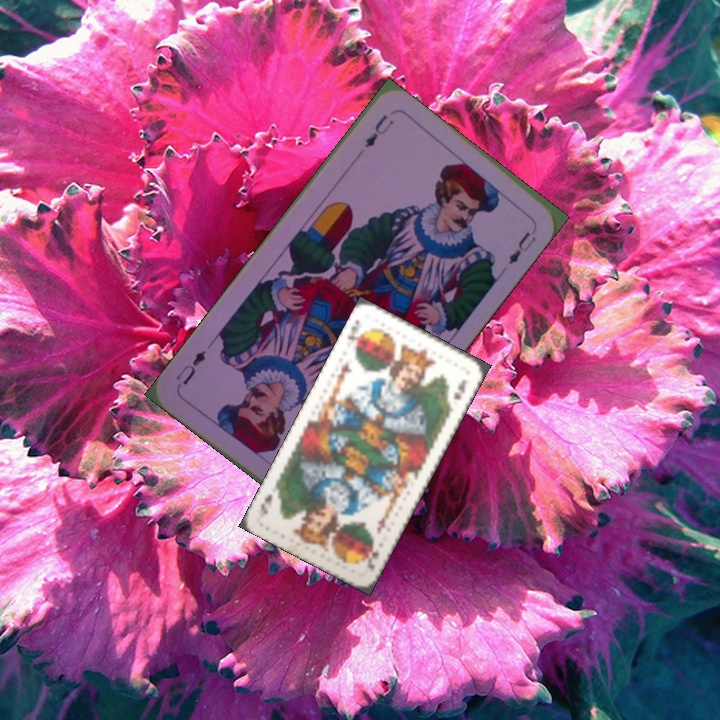EU: (361, 110, 396, 151)
SK: (342, 315, 368, 344), (360, 538, 382, 572)
